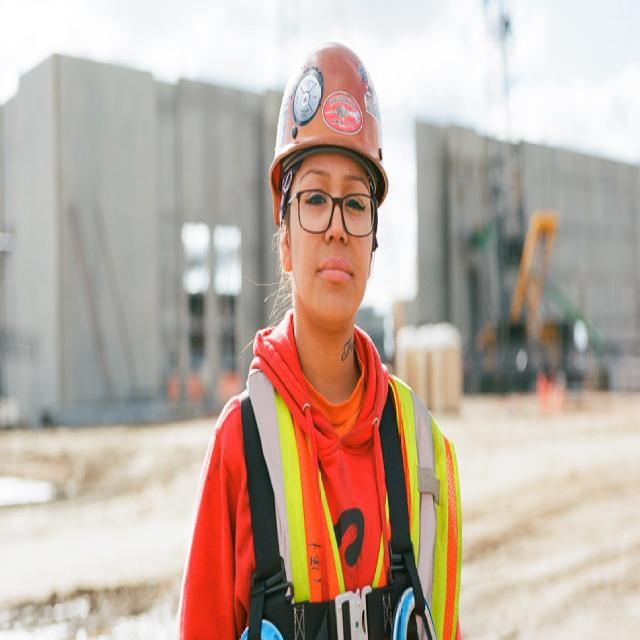Reflective-Jacket: (235, 337, 468, 637)
Safety-Helmet: (264, 36, 393, 200)
